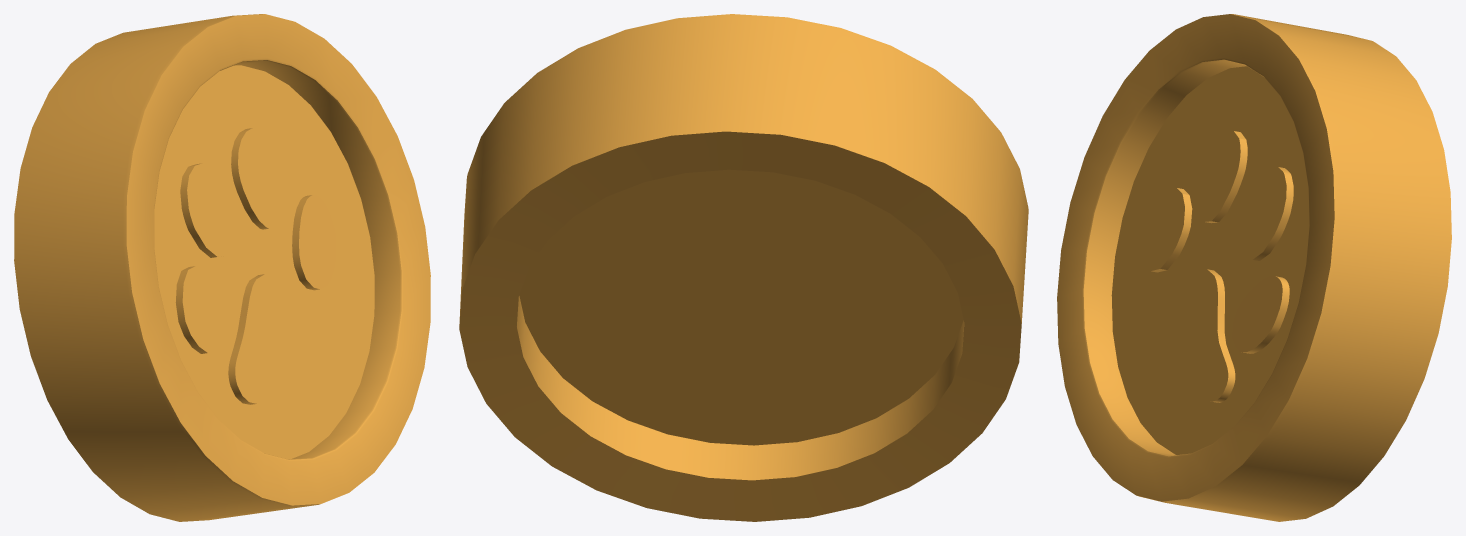
The model's file is SM_Coin.fbx.
The picture shows the model from 3 angles, left to right: view 1: azimuth 30°, elevation 25°; view 2: azimuth 150°, elevation 25°; view 3: azimuth 270°, elevation 25°; orthographic projection. The views are drawn at different scales.
Parts seen in each view (by area): view 1: Coin02; view 2: Coin02; view 3: Coin02.
Boxes of the visible parts, x1,y1,x2,y2 form: Coin02: [14, 14, 430, 521]; Coin02: [459, 14, 1028, 521]; Coin02: [1057, 14, 1451, 521].
Size of the model in its own units: 89.45 by 90.39 by 69.9.
